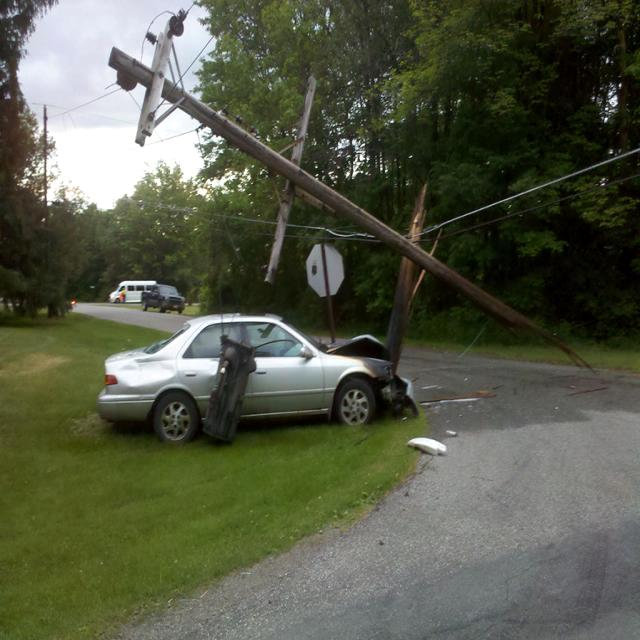Broken Pole: (94, 0, 591, 372), (384, 181, 435, 361)
